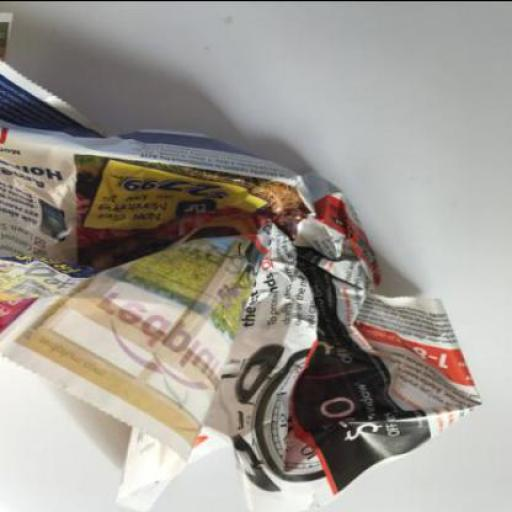paper: (0, 1, 480, 511)
